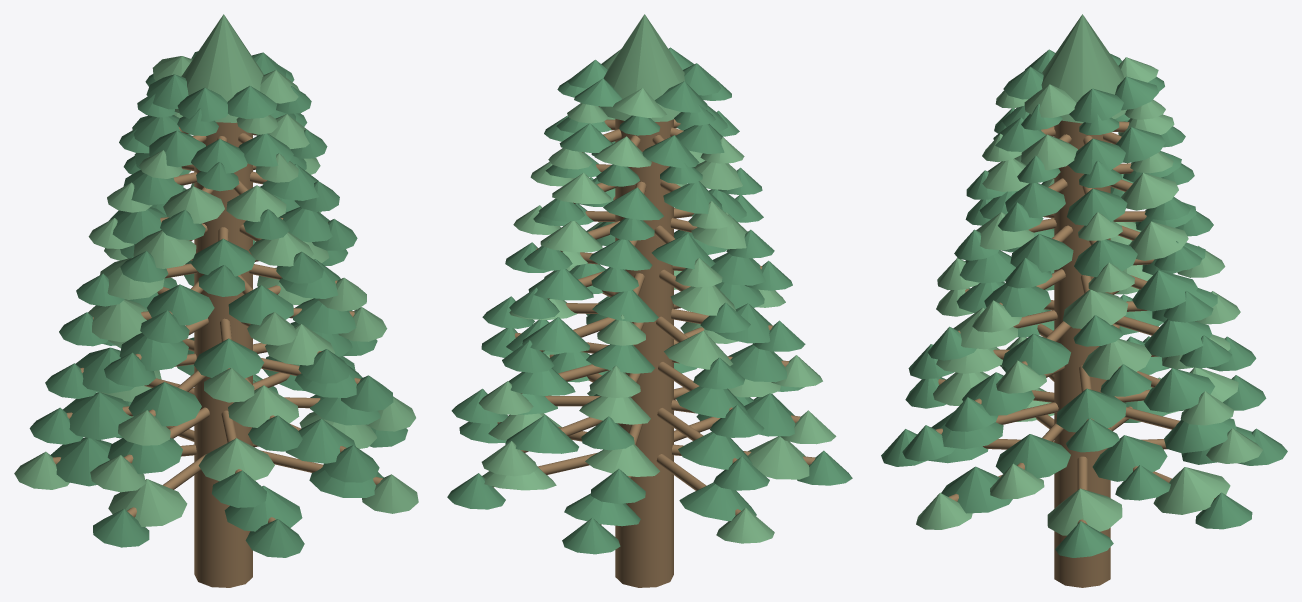
File: pine_02.gltf
The picture shows the model from 3 angles, left to right: view 1: azimuth 30°, elevation 25°; view 2: azimuth 150°, elevation 25°; view 3: azimuth 270°, elevation 25°; orthographic projection.
Parts seen in each view (by area): view 1: Needle_Foliage, NeedleLight_Foliage, Bark; view 2: Needle_Foliage, NeedleLight_Foliage, Bark; view 3: Needle_Foliage, NeedleLight_Foliage, Bark.
Part boxes in pixels (box(x1,y1,x2,y2)): Needle_Foliage: box(29, 51, 407, 557); NeedleLight_Foliage: box(14, 14, 418, 526); Bark: box(53, 122, 382, 587); Needle_Foliage: box(447, 47, 852, 554); NeedleLight_Foliage: box(479, 14, 836, 543); Bark: box(485, 106, 815, 587); Needle_Foliage: box(881, 49, 1287, 557); NeedleLight_Foliage: box(916, 14, 1262, 535); Bark: box(935, 120, 1214, 587).
Bounding box in the file's own units: 3.39 × 5.25 × 3.45.
